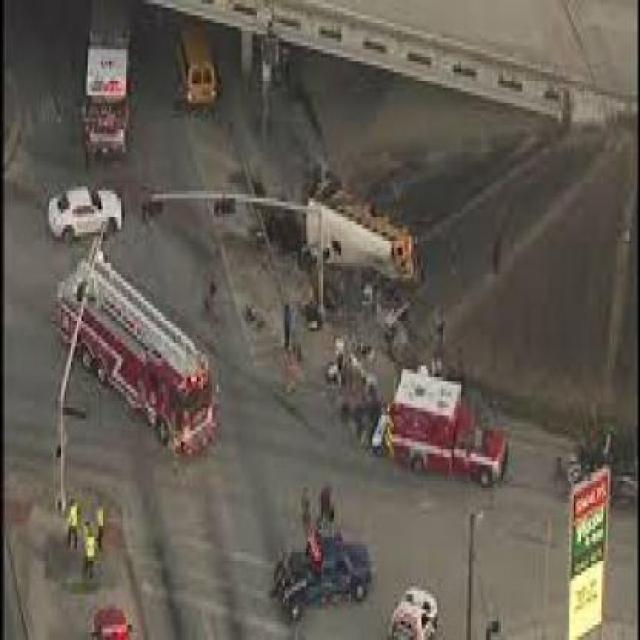accident: (267, 136, 455, 339)
